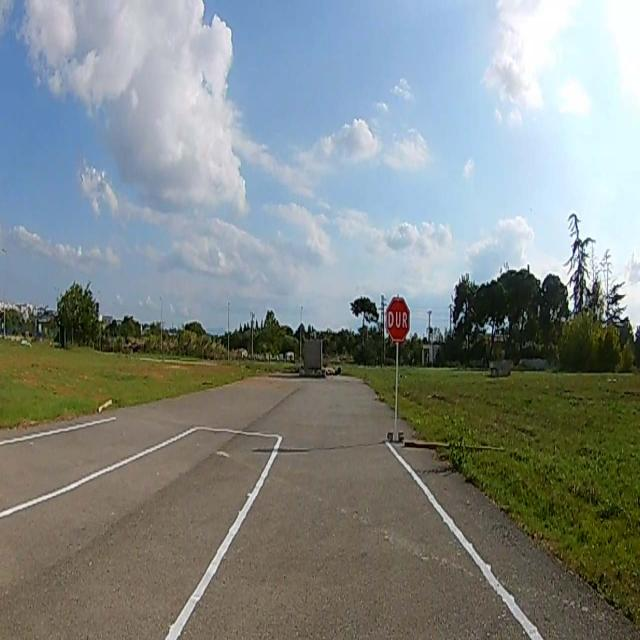dur: (387, 298, 411, 338)
